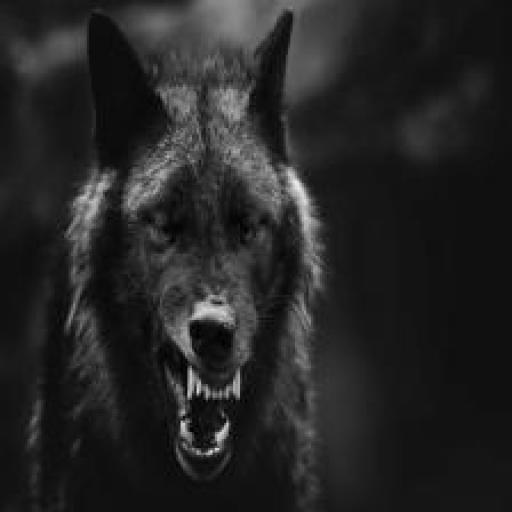wolf: (18, 0, 373, 512)
